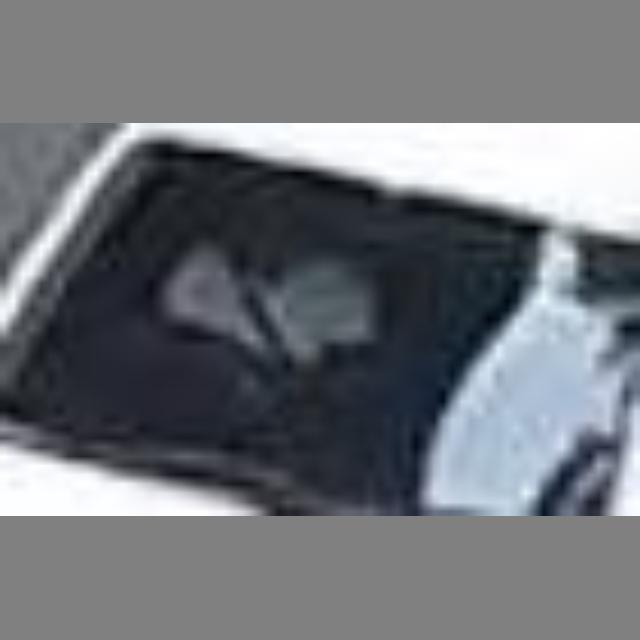pakai: (137, 205, 366, 379)
